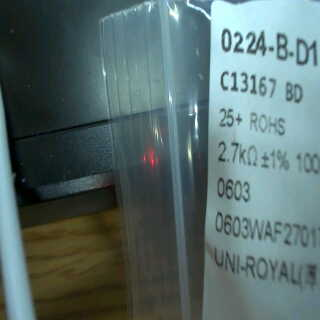2.7kR: (214, 137, 264, 172)
